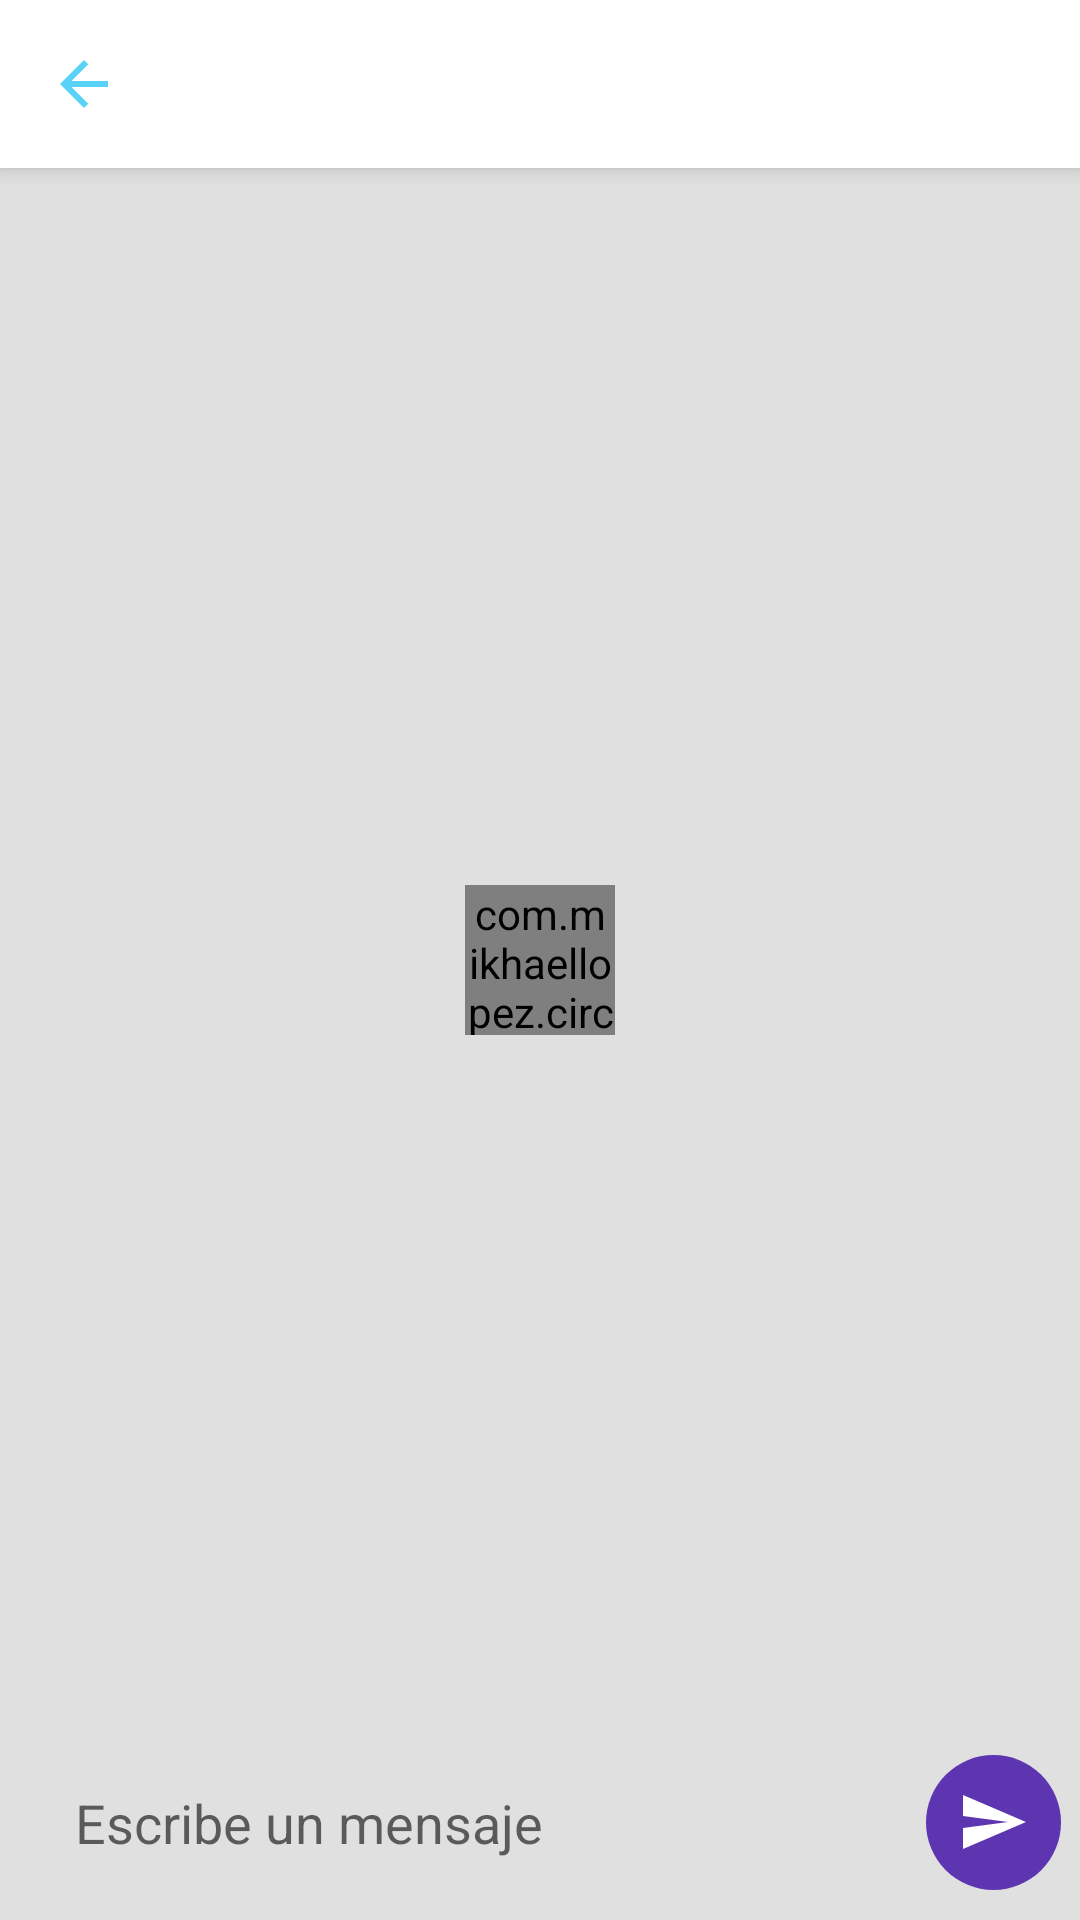

Named icons in this screenshot (1080x1920) and their centers, (x,y):
send: (994,1822)
